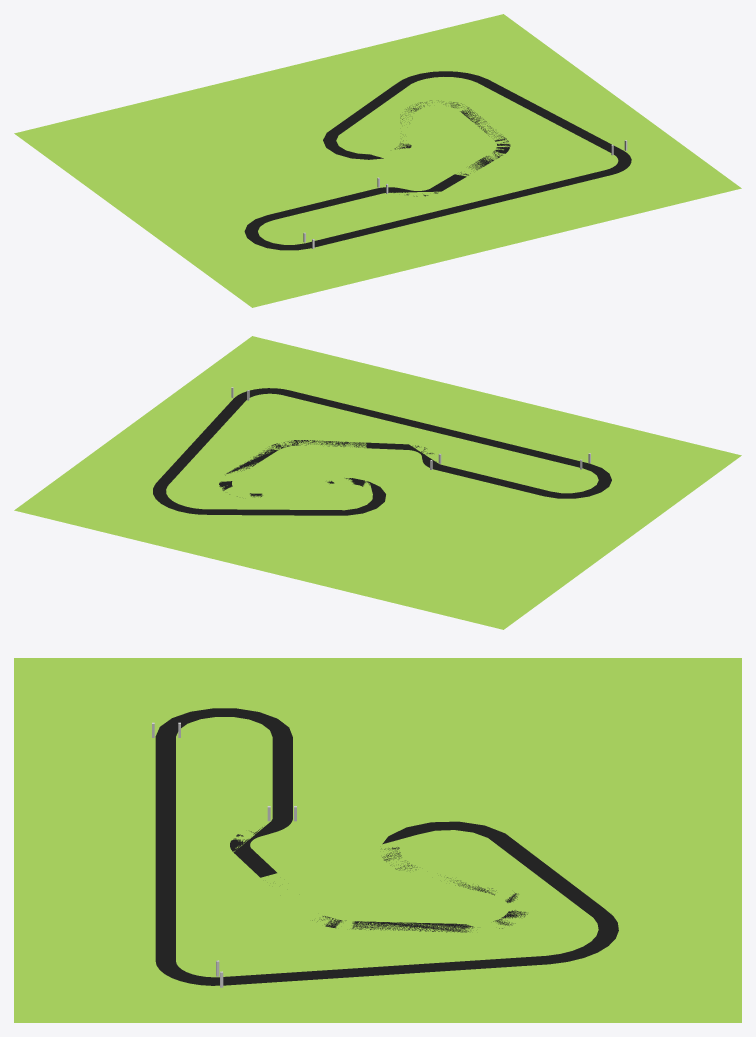
Rendered from test-circuit2.fbx.
The picture shows the model from 3 angles, top to bottom: view 1: azimuth 30°, elevation 25°; view 2: azimuth 150°, elevation 25°; view 3: azimuth 270°, elevation 25°; orthographic projection. The views are drawn at different scales.
Parts seen in each view (by area): view 1: map; view 2: map; view 3: map.
Boxes of the visible parts, x1,y1,x2,y2 form: map: (14,14,741,307); map: (14,336,741,629); map: (14,658,741,1022).
Size of the model in its own units: 58977 by 1235 by 49715.
